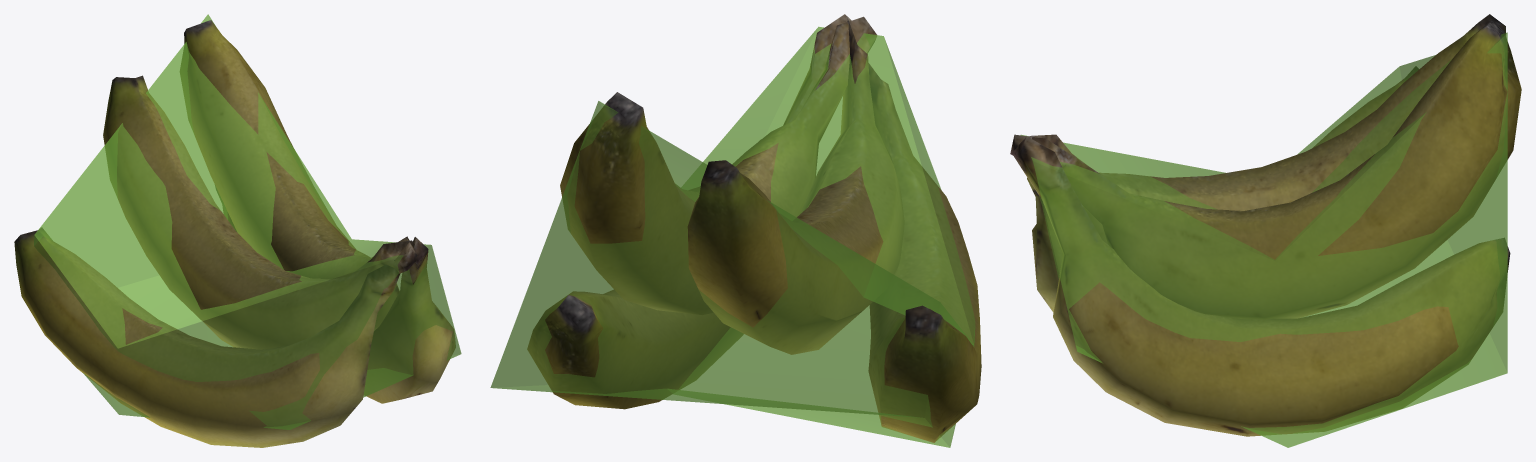
File: pg_Banana_pile_01_a.fbx
The picture shows the model from 3 angles, left to right: view 1: azimuth 30°, elevation 25°; view 2: azimuth 150°, elevation 25°; view 3: azimuth 270°, elevation 25°; orthographic projection. The views are drawn at different scales.
Parts seen in each view (by area): view 1: pg_Banana_pile_01_a_LOD0, pg_Banana_pile_01_a_col; view 2: pg_Banana_pile_01_a_LOD0, pg_Banana_pile_01_a_col; view 3: pg_Banana_pile_01_a_LOD0, pg_Banana_pile_01_a_col.
Boxes of the visible parts, <box> form: pg_Banana_pile_01_a_LOD0: <box>14,20,455,447</box>; pg_Banana_pile_01_a_col: <box>34,14,461,429</box>; pg_Banana_pile_01_a_LOD0: <box>527,14,981,442</box>; pg_Banana_pile_01_a_col: <box>490,26,975,447</box>; pg_Banana_pile_01_a_LOD0: <box>1010,14,1521,436</box>; pg_Banana_pile_01_a_col: <box>1021,32,1507,447</box>.
Size of what is drawn, in the model's own units: 19.07 by 17.19 by 21.61.
